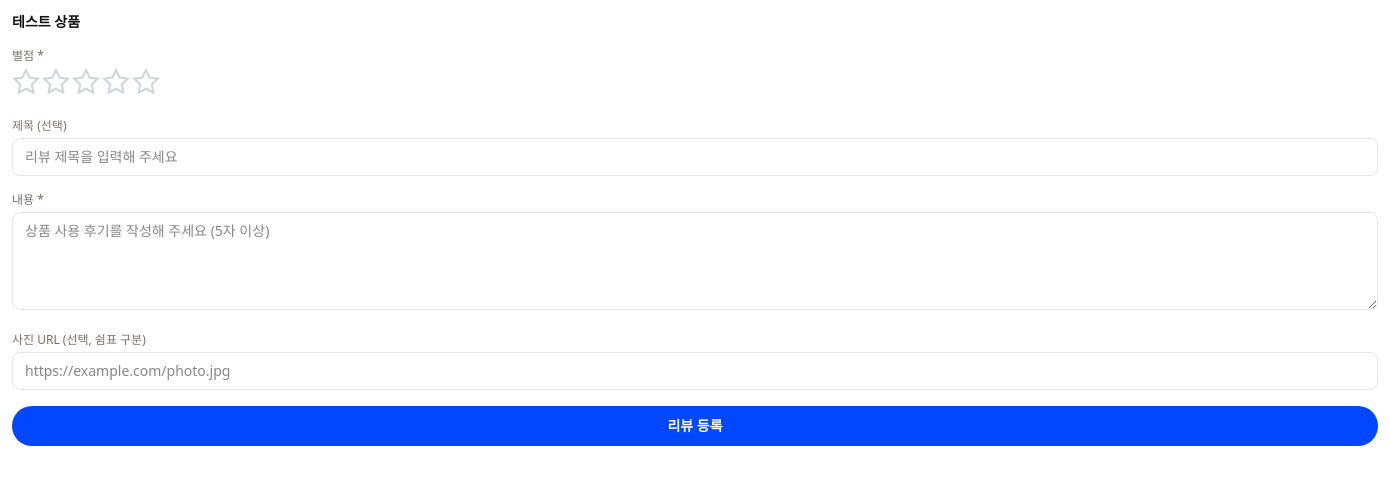
Test: ReviewForm › 내용 5자 미만이면 에러를 표시한다
Click the button named "4점". click: point(116, 82)
box: [102,68,130,96]
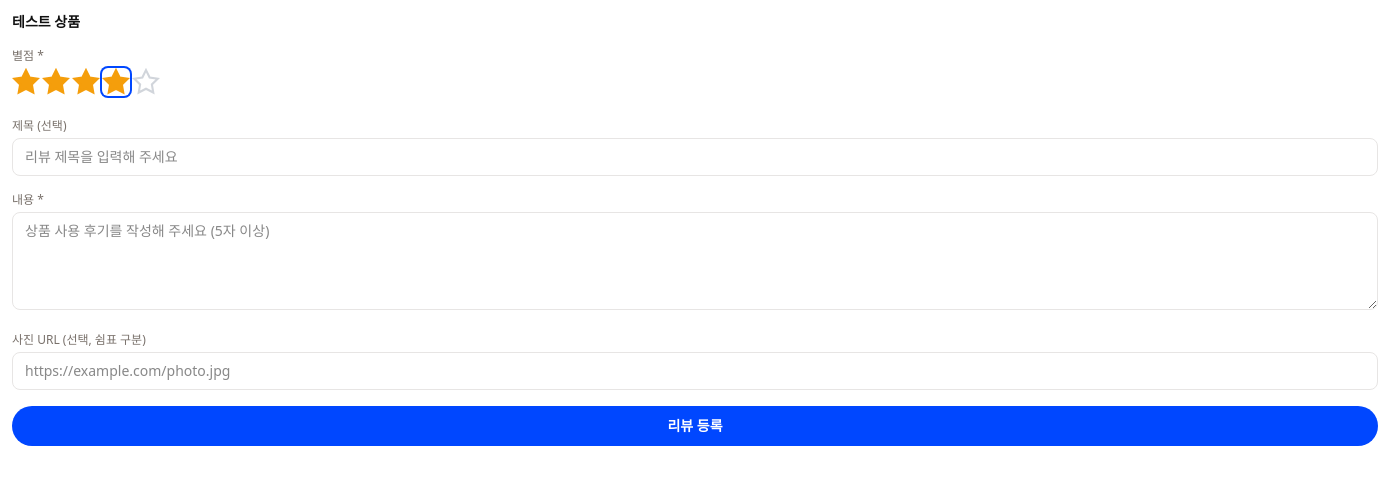
Type "짧음" into the text box labelled "내용 *". click: point(695, 261)
box: [12,212,1378,310]
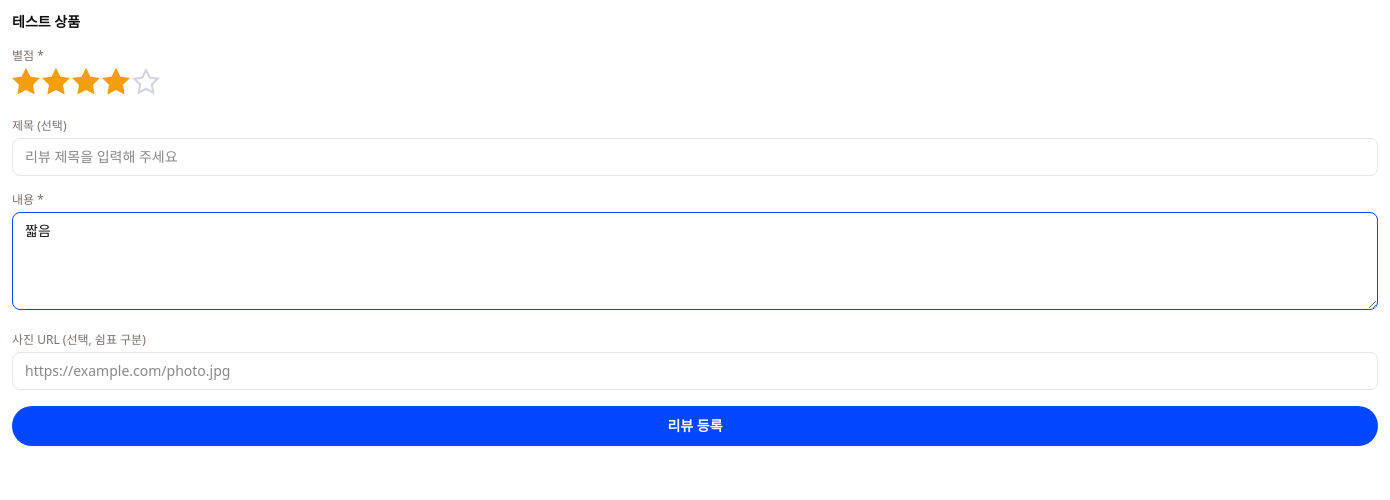
Click the button "리뷰 등록". click: point(695, 426)
box: [12,406,1378,446]
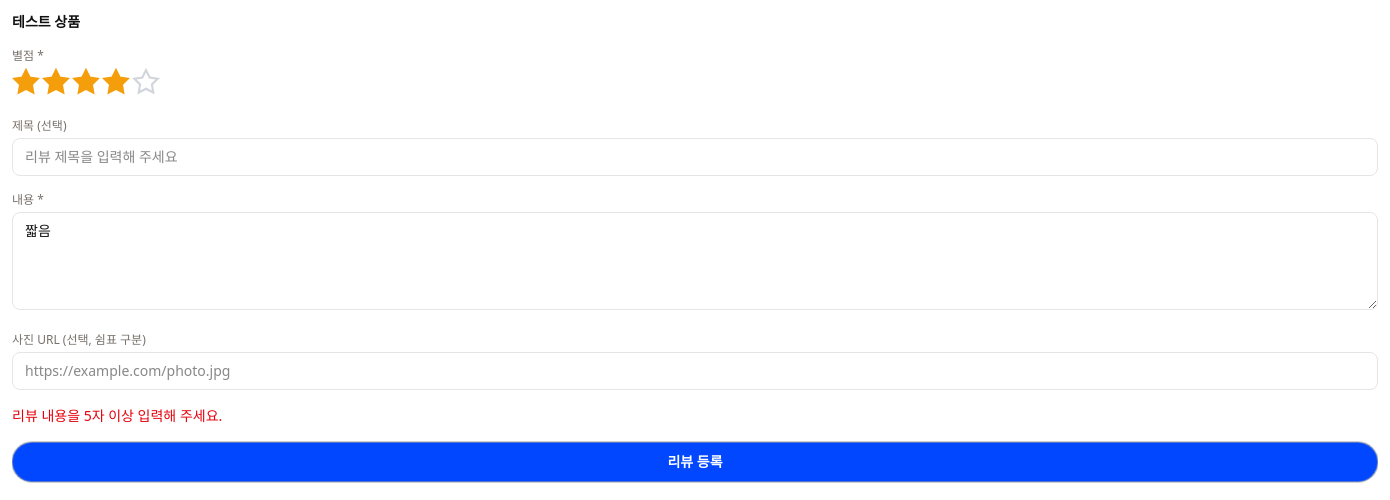
Now the message shows "5자 이상", box [12,406,222,425]
